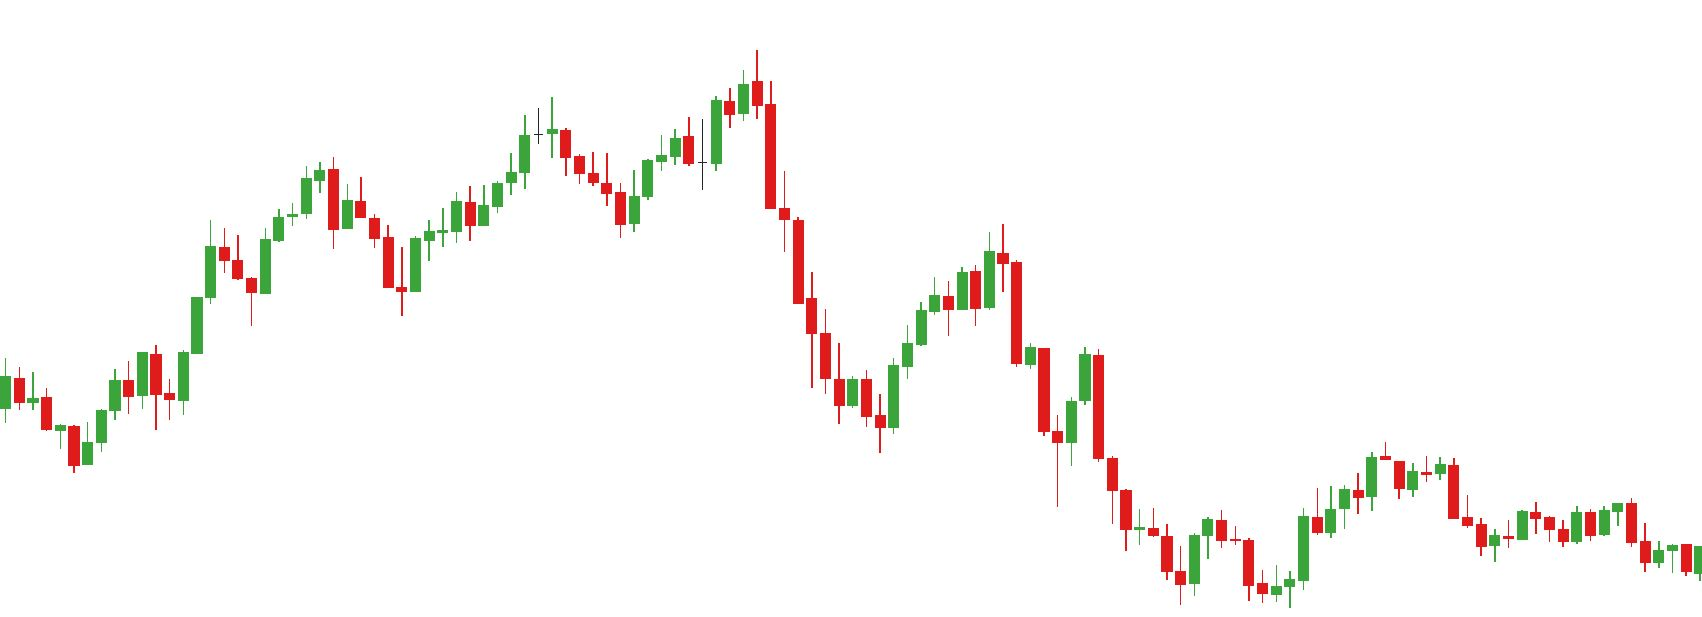buy: (1171, 538, 1285, 609)
